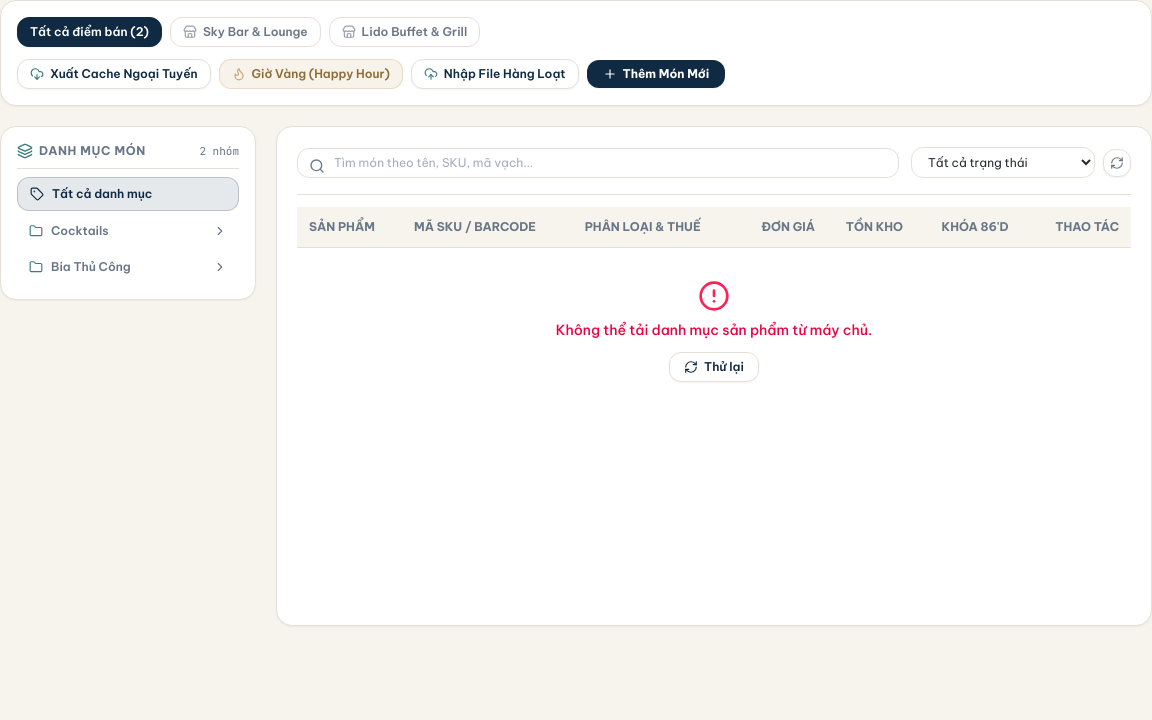
PosCatalogManagement Component Tests (KAN-396) › renders error state and retry button when products fail to load
Expected: the text "Không thể tải danh mục sản phẩm từ máy chủ." is shown, [556,321,872,339]
Click the button "Thử lại": coordinates (714, 367) [669,352,759,382]
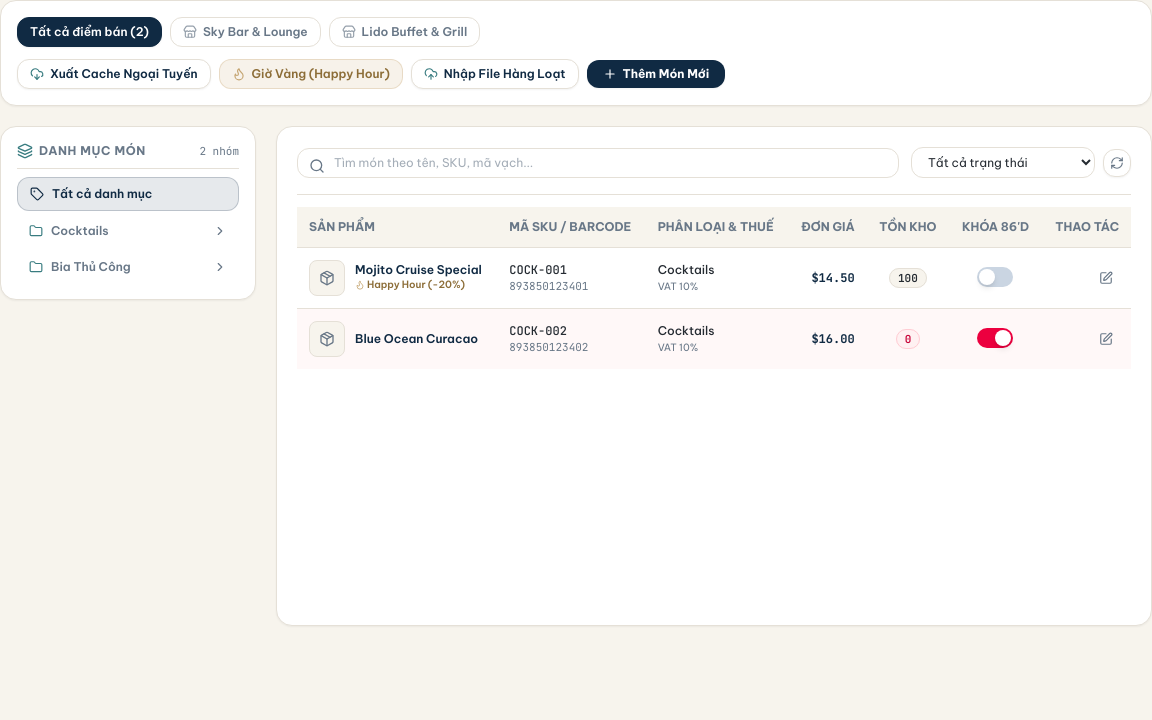
Result: the text "Mojito Cruise Special" is shown at [355,262,482,278]
